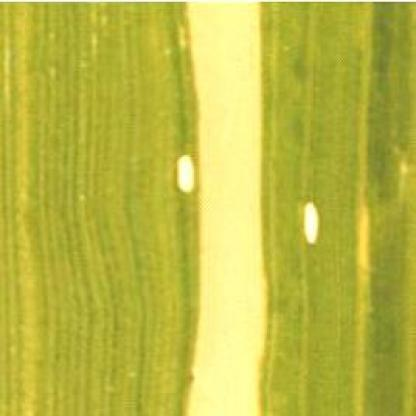whorl-maggot: (300, 196, 324, 249), (176, 151, 200, 198)
